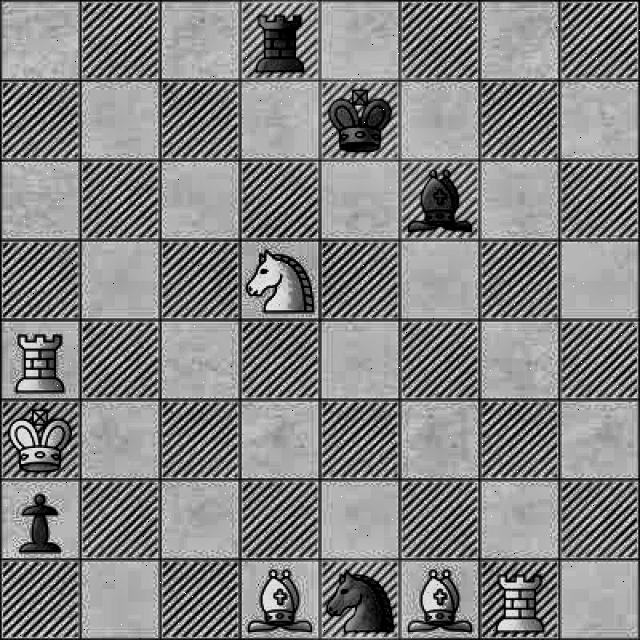Black Knight: (322, 562, 395, 640)
black bishop: (399, 164, 477, 236)
black king: (322, 79, 398, 159)
black pawn: (9, 490, 78, 558)
black rook: (242, 4, 313, 77)
white bishop: (244, 560, 316, 640), (403, 563, 477, 640)
white king: (7, 405, 76, 473)
white rook: (7, 323, 75, 398), (487, 566, 552, 640)
whiteknight: (247, 244, 317, 317)
